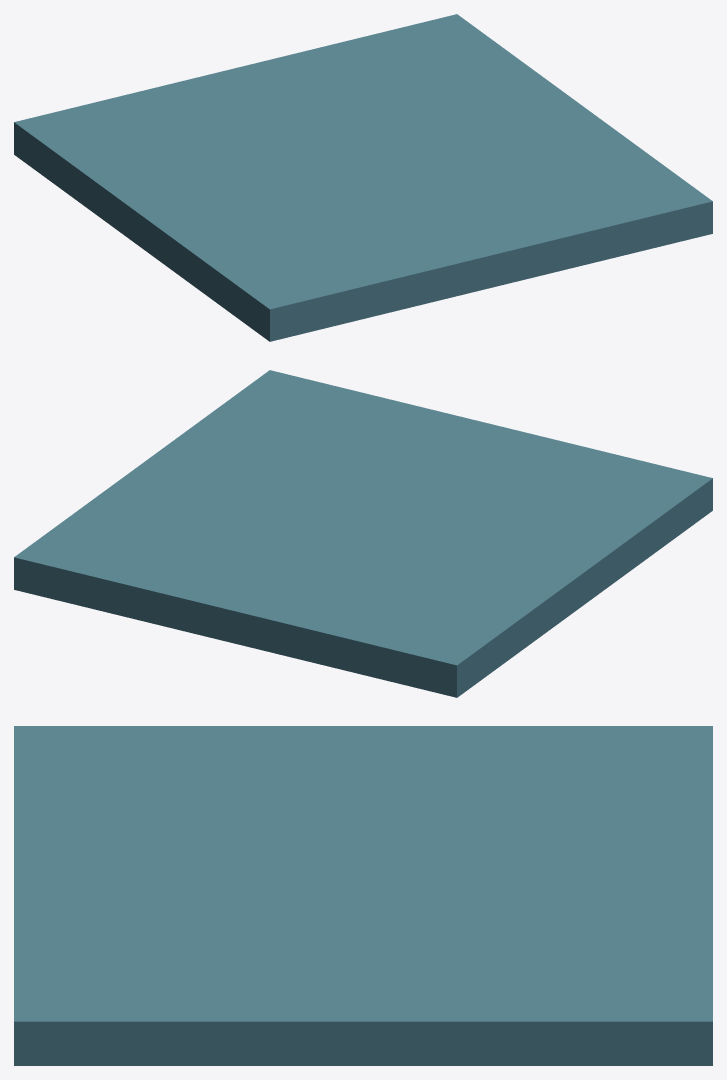
File: ICE_03_LakeTile.glb
3 views of the same model, one above another, from view 1: azimuth 30°, elevation 25°; view 2: azimuth 150°, elevation 25°; view 3: azimuth 270°, elevation 25° (orthographic). The views are drawn at different scales.
Visible parts, largest first — view 1: ICE_03_LakeTile; view 2: ICE_03_LakeTile; view 3: ICE_03_LakeTile.
Boxes of the visible parts, x1,y1,x2,y2 form: ICE_03_LakeTile: (14,14,712,341); ICE_03_LakeTile: (14,370,712,697); ICE_03_LakeTile: (14,726,712,1065).
Size of the model in its own units: 4 by 0.28 by 4.
